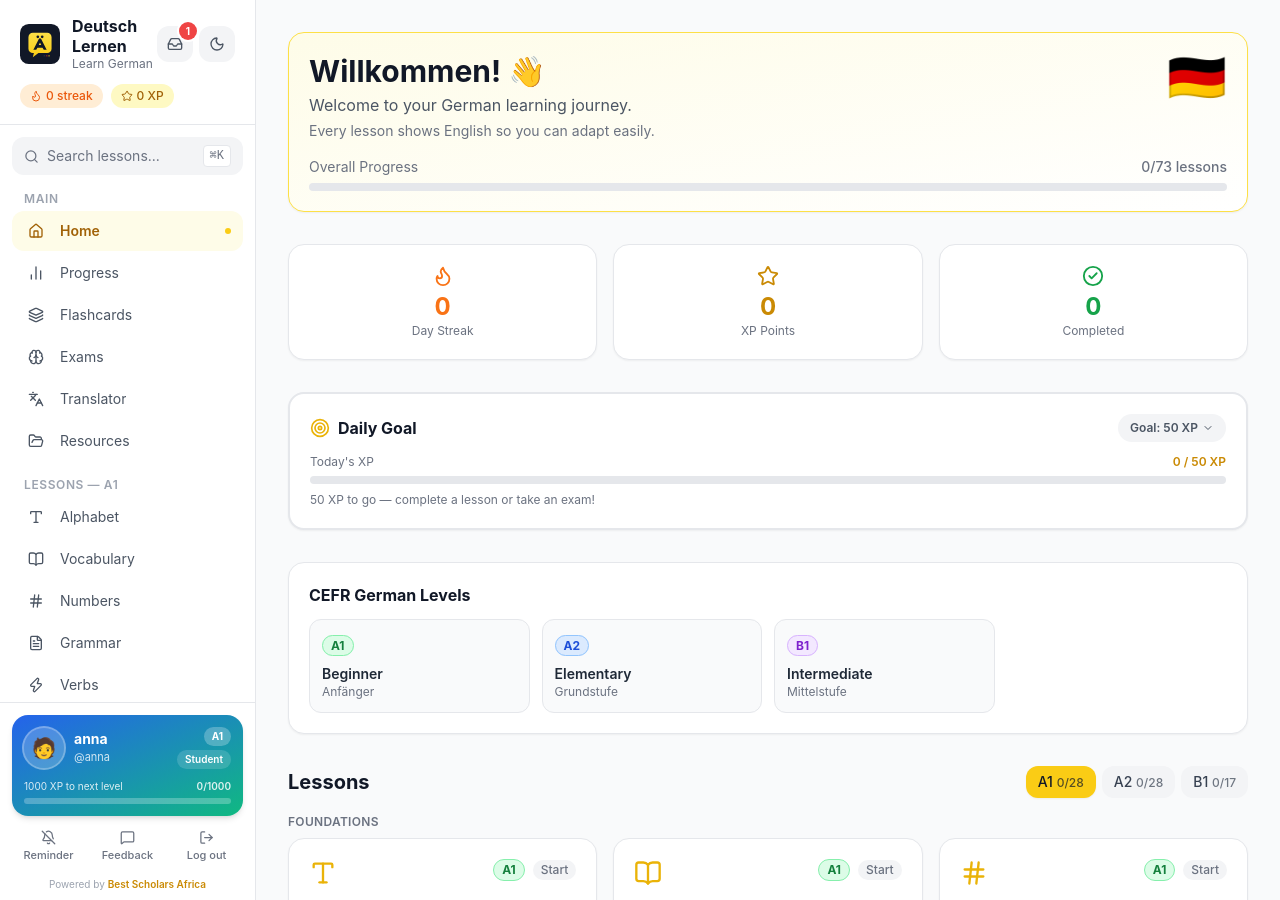
Test: student messages › unread count is shown and opening a message marks it read
Step 1. Click the button named "Messages, 1 unread" → (175, 44), box [157,26,193,62]
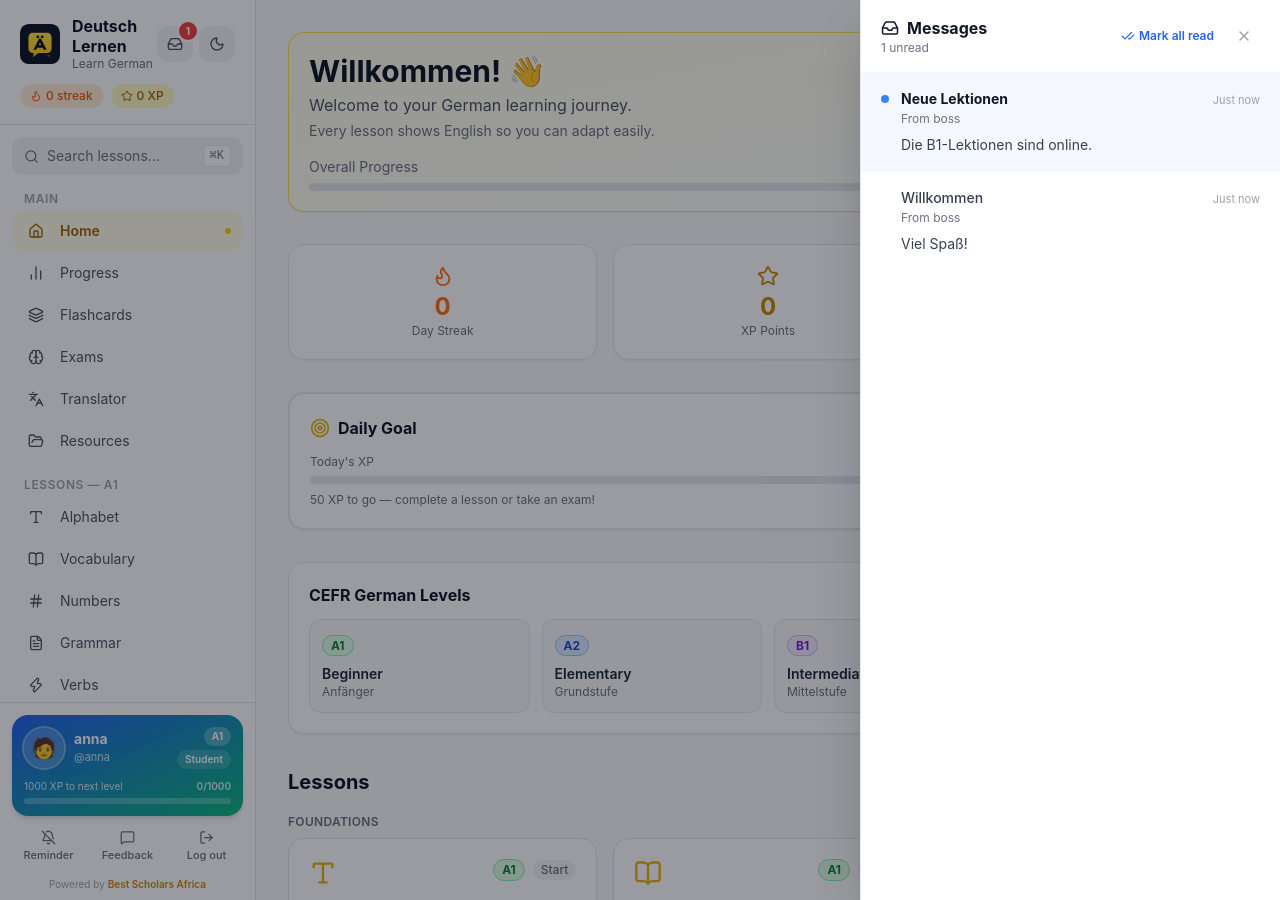
Now the text "1 unread" is shown, box [881,40,929,55]
Step 2. Click the text "Neue Lektionen" → (954, 99), box [901,89,1008,109]
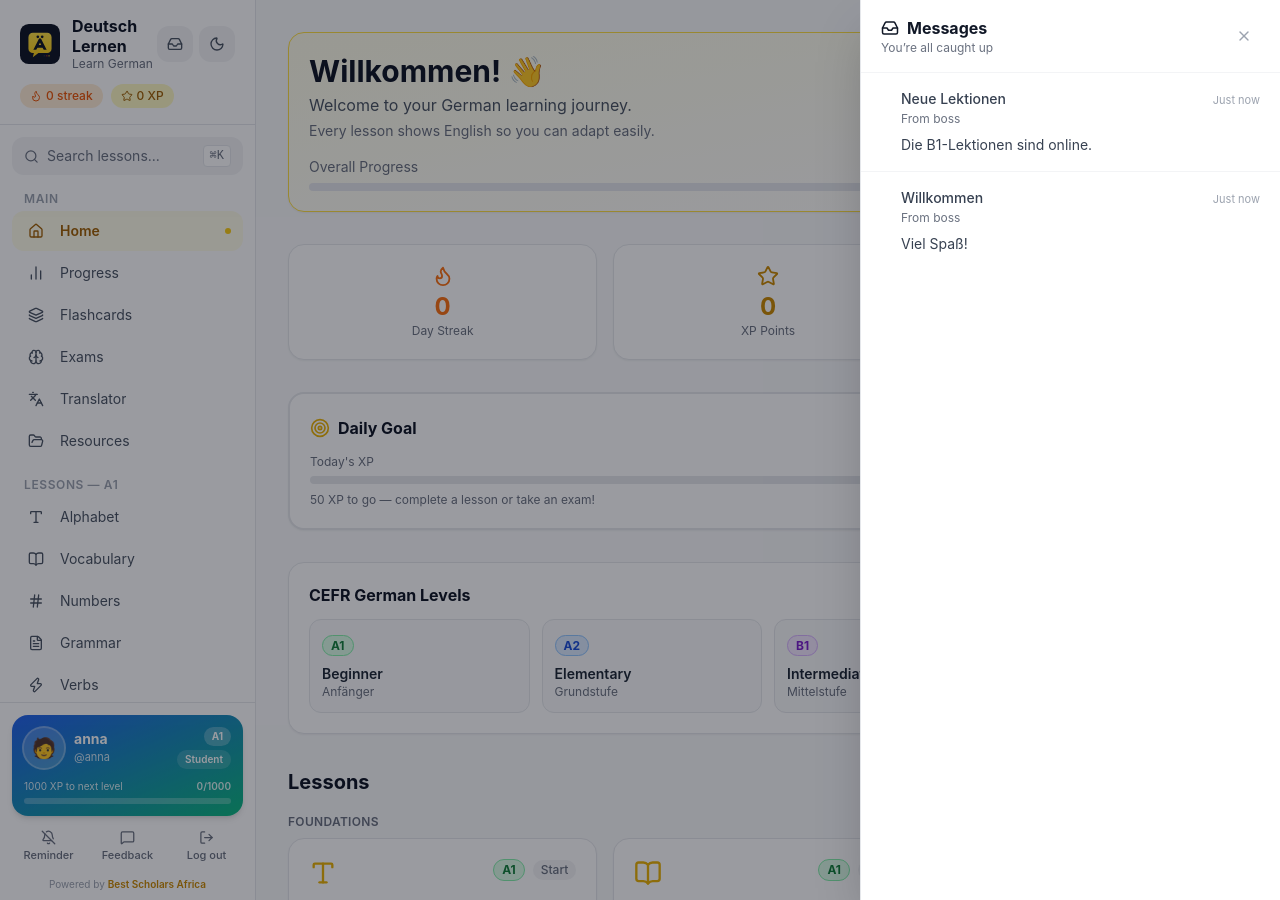
Expected: the button named "Messages" is shown, [157,26,193,62]
Now the text "You’re all caught up" is shown, box [881,40,993,56]
